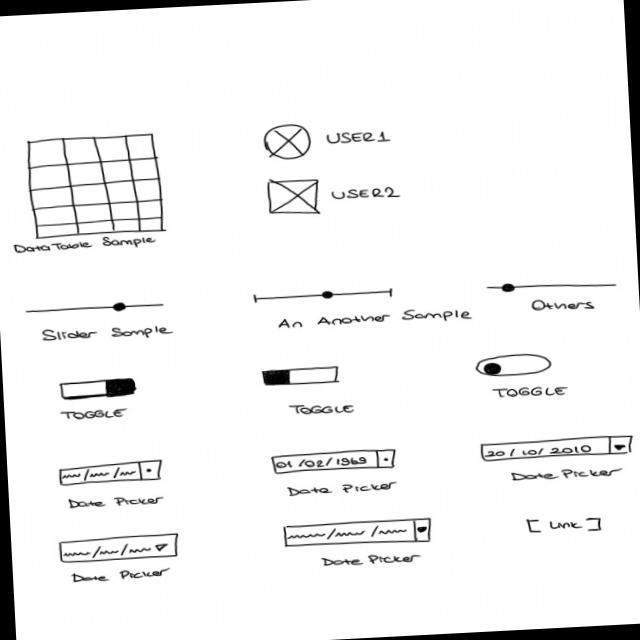image: (265, 178, 322, 219), (261, 122, 314, 161)
label: (276, 307, 478, 333), (12, 233, 158, 258), (39, 322, 178, 346), (508, 465, 628, 486), (284, 480, 400, 500), (321, 551, 425, 571), (66, 494, 168, 512), (72, 567, 174, 585), (491, 384, 574, 404), (331, 185, 402, 205), (325, 128, 395, 148), (288, 401, 360, 419), (528, 297, 598, 315), (60, 407, 131, 424)
link: (527, 515, 605, 538)
select: (283, 516, 436, 553), (478, 435, 638, 464), (58, 531, 183, 567), (270, 448, 400, 477), (57, 460, 165, 488)
slider: (252, 287, 398, 307), (25, 300, 167, 319), (486, 278, 619, 296)
table: (25, 132, 169, 241)
toggle: (57, 377, 140, 404), (475, 353, 555, 380), (260, 366, 342, 390)
